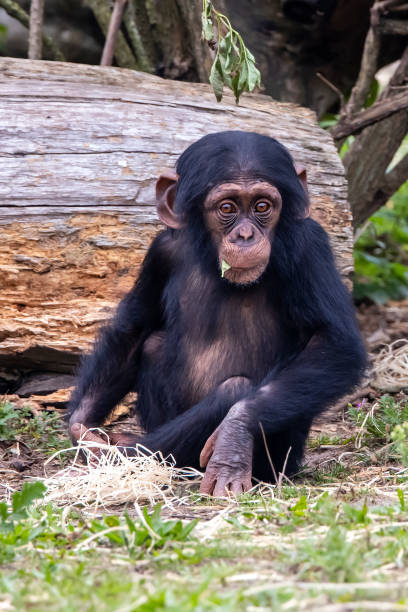chimpanzee: (131, 129, 319, 335)
